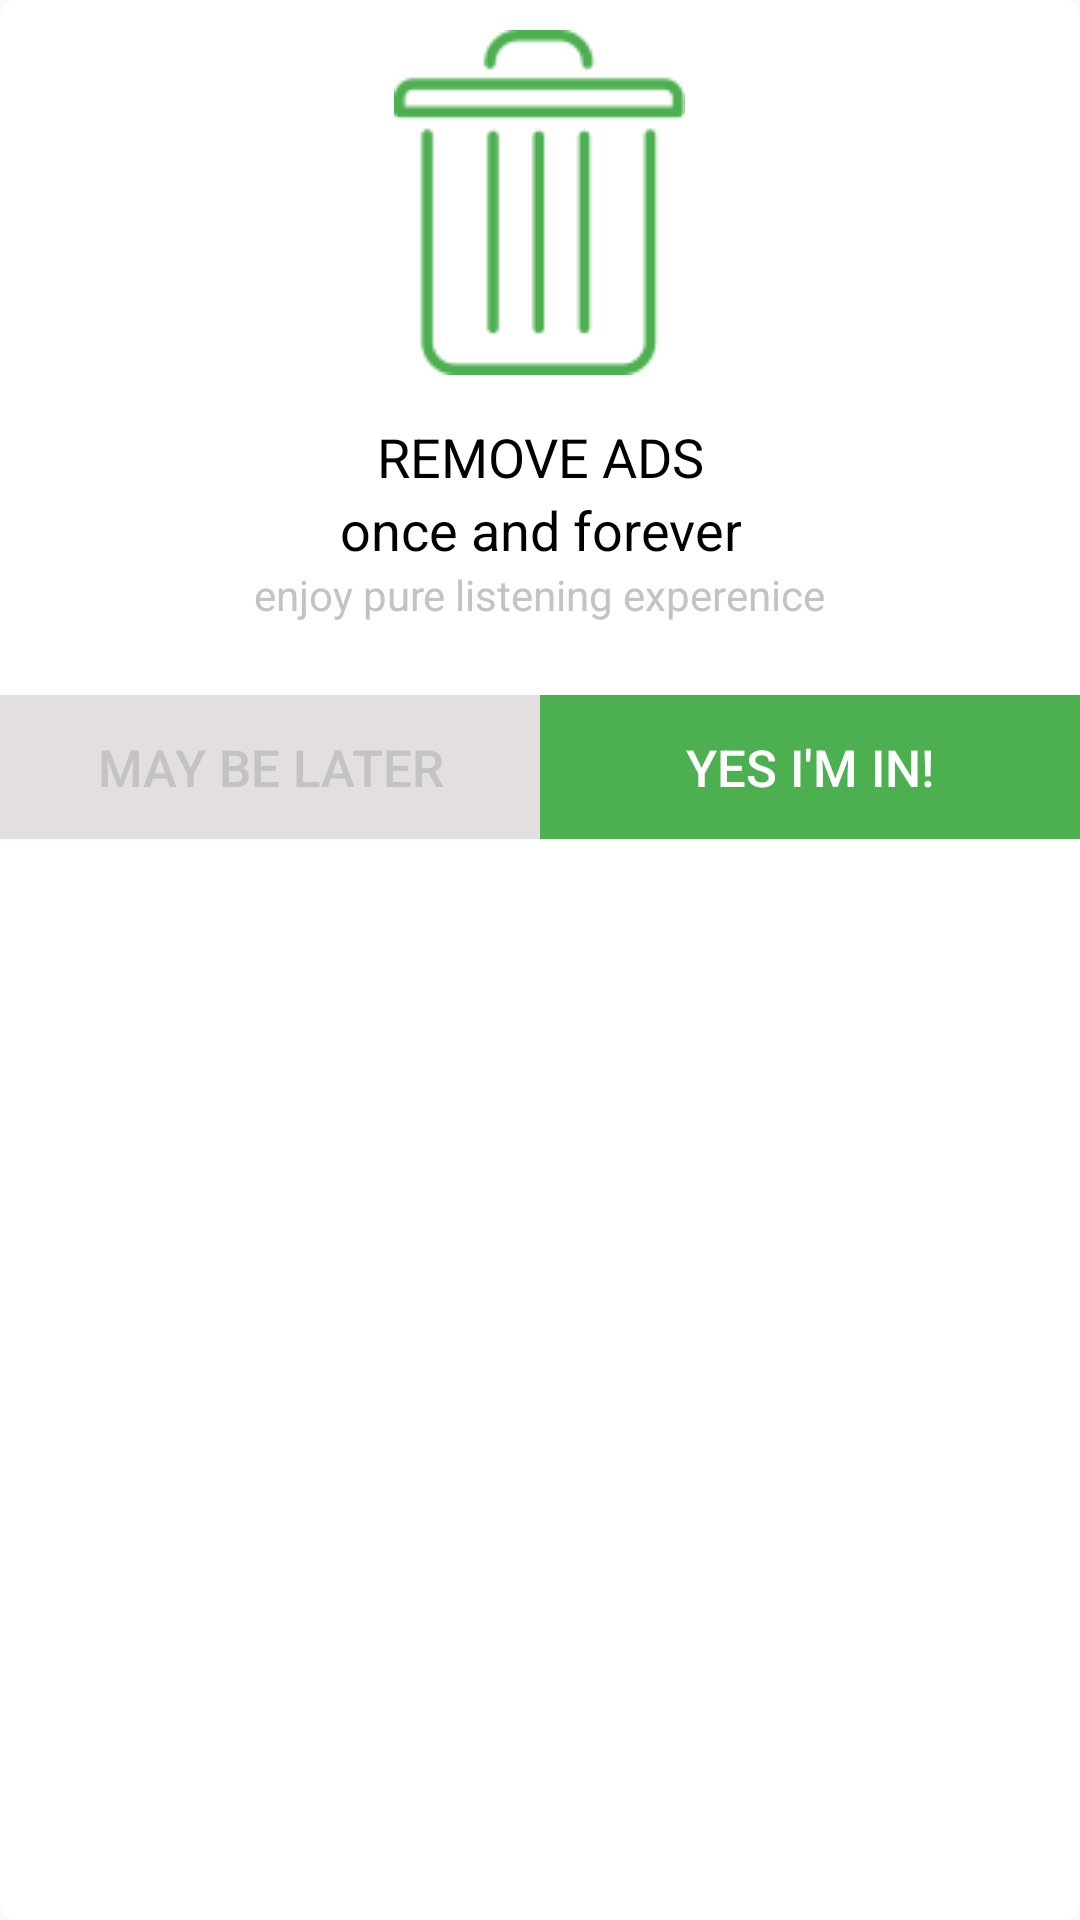

Point at icon controls on the screen. Image size 1080px x 1920px, points as [x,y].
trashbin: [539,202]
